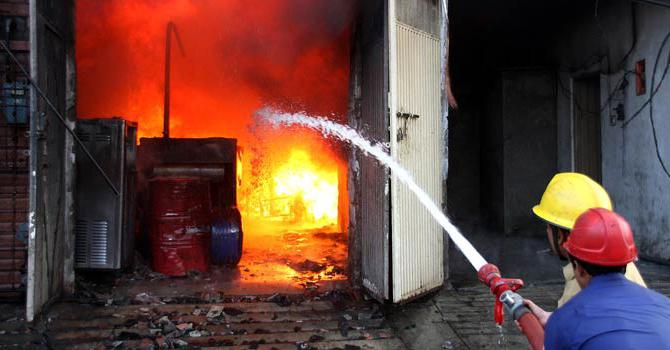fire: (237, 107, 348, 249)
